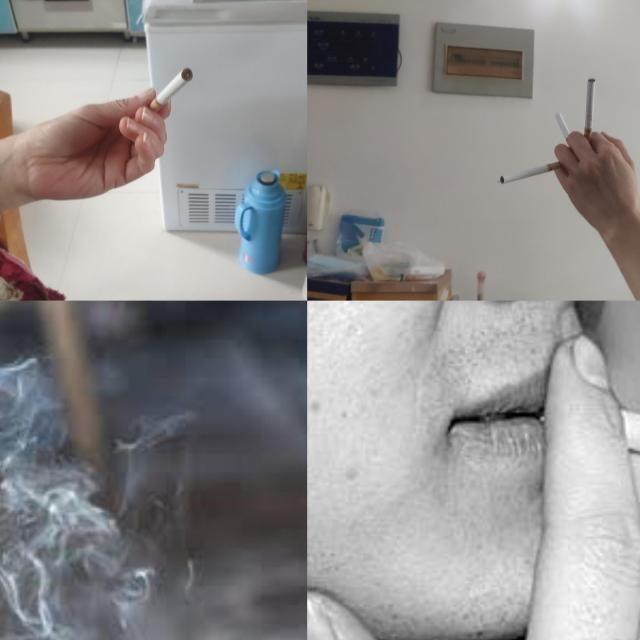smoking: (544, 398, 640, 505), (144, 68, 196, 116), (501, 160, 564, 184), (555, 112, 578, 157), (582, 78, 596, 148)
